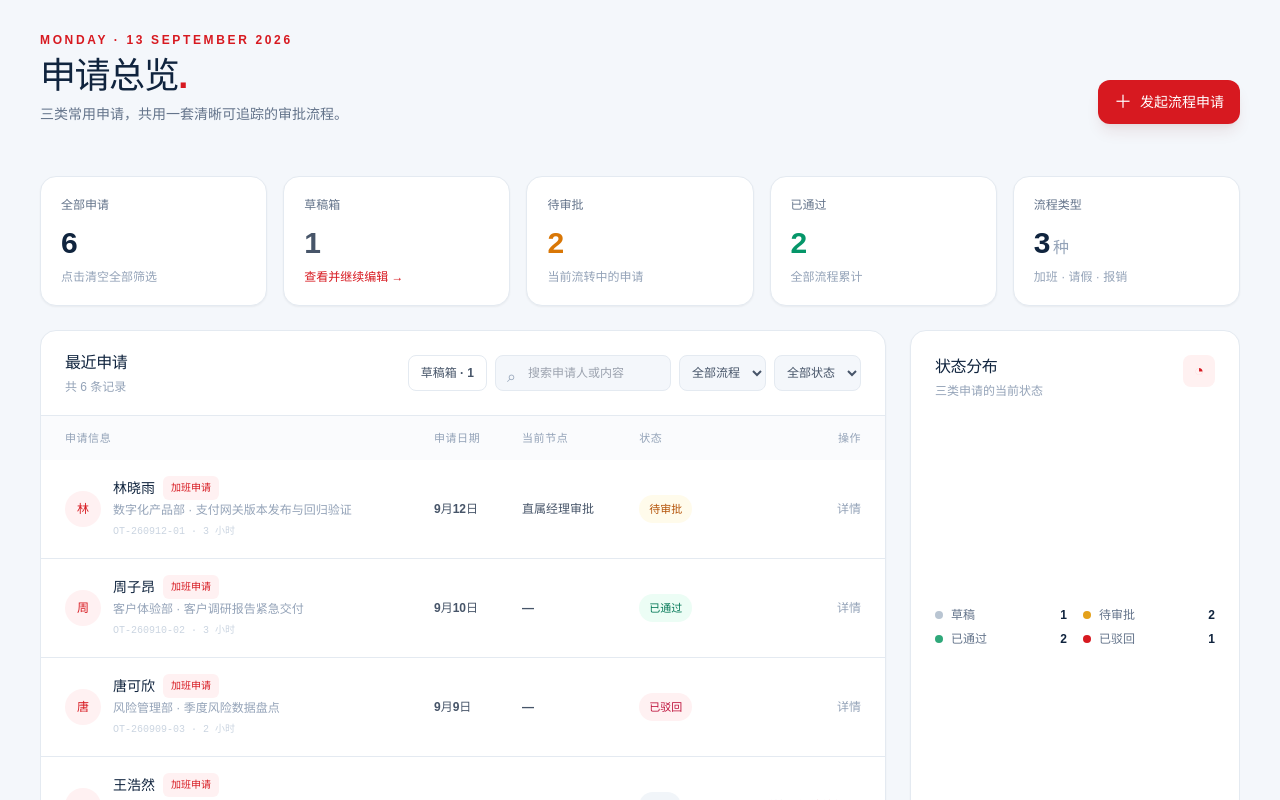
Test: dashboard page › filters applications by status and process type
Select "已通过" in the 2nd dropdown named "申请状态" at (818, 373), box [774,355,861,391]
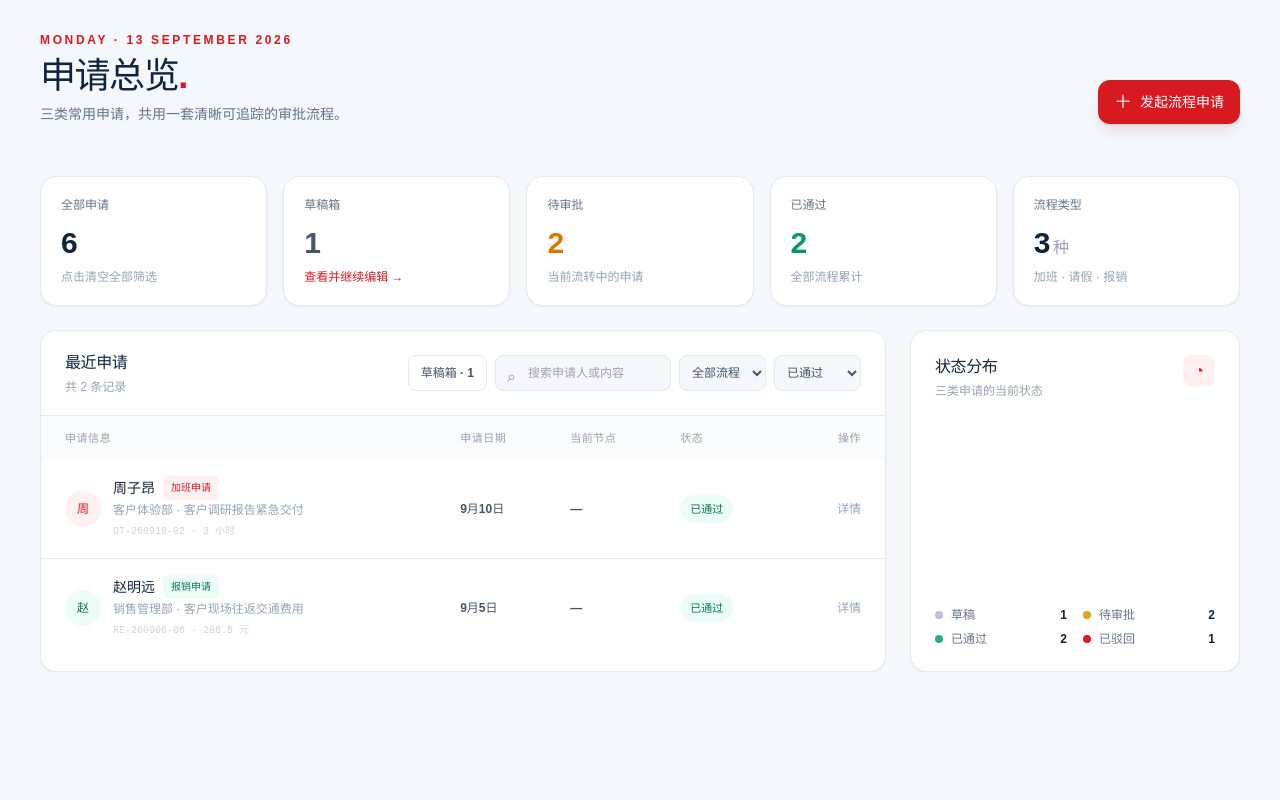
Select "报销申请" in the 1st dropdown named "流程类型" at (722, 373), box [679,355,766,391]
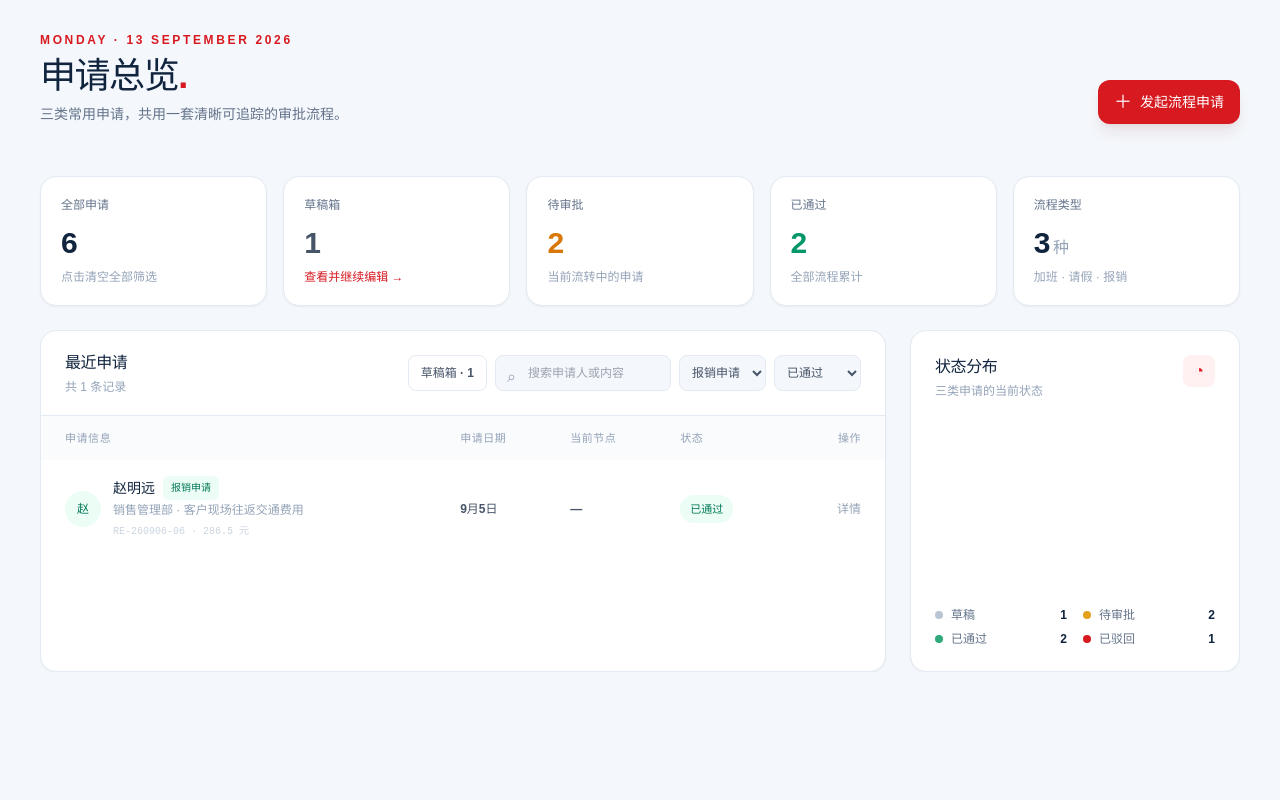
Check: the text "赵明远" is shown, box [113,478,155,498]
Check: the text "周子昂" is gone
Check: the text "共 1 条记录" is shown, box [65,379,127,395]
